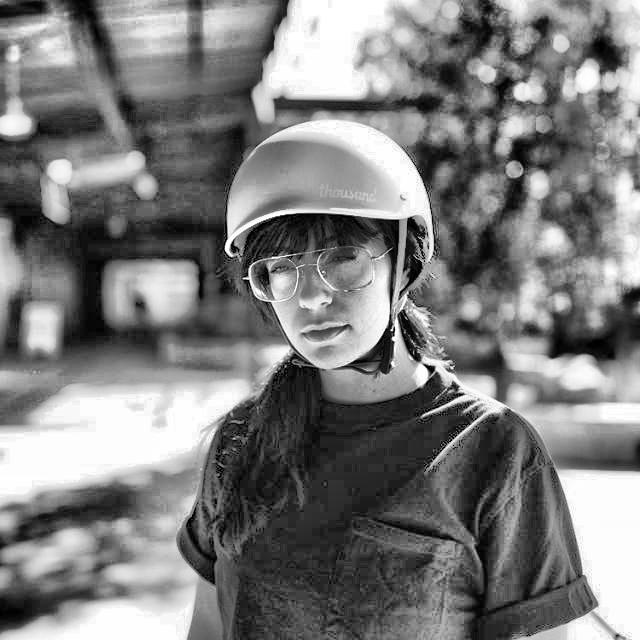Helmet: (219, 112, 444, 382)
